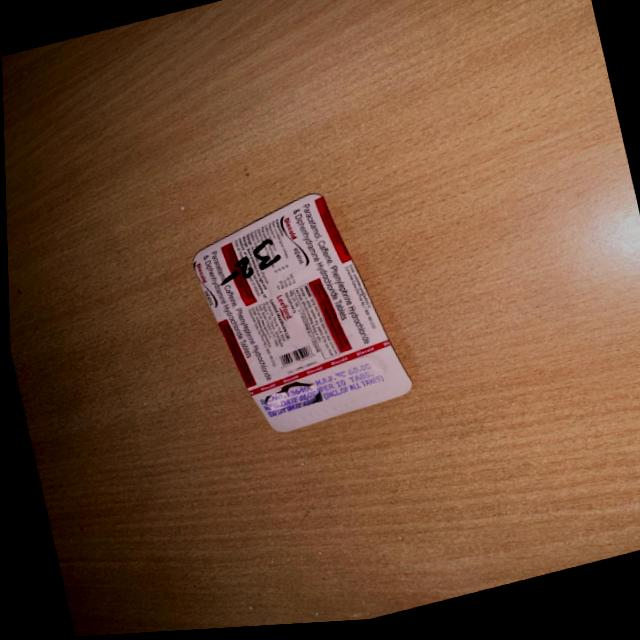medicine: (179, 191, 415, 442)
